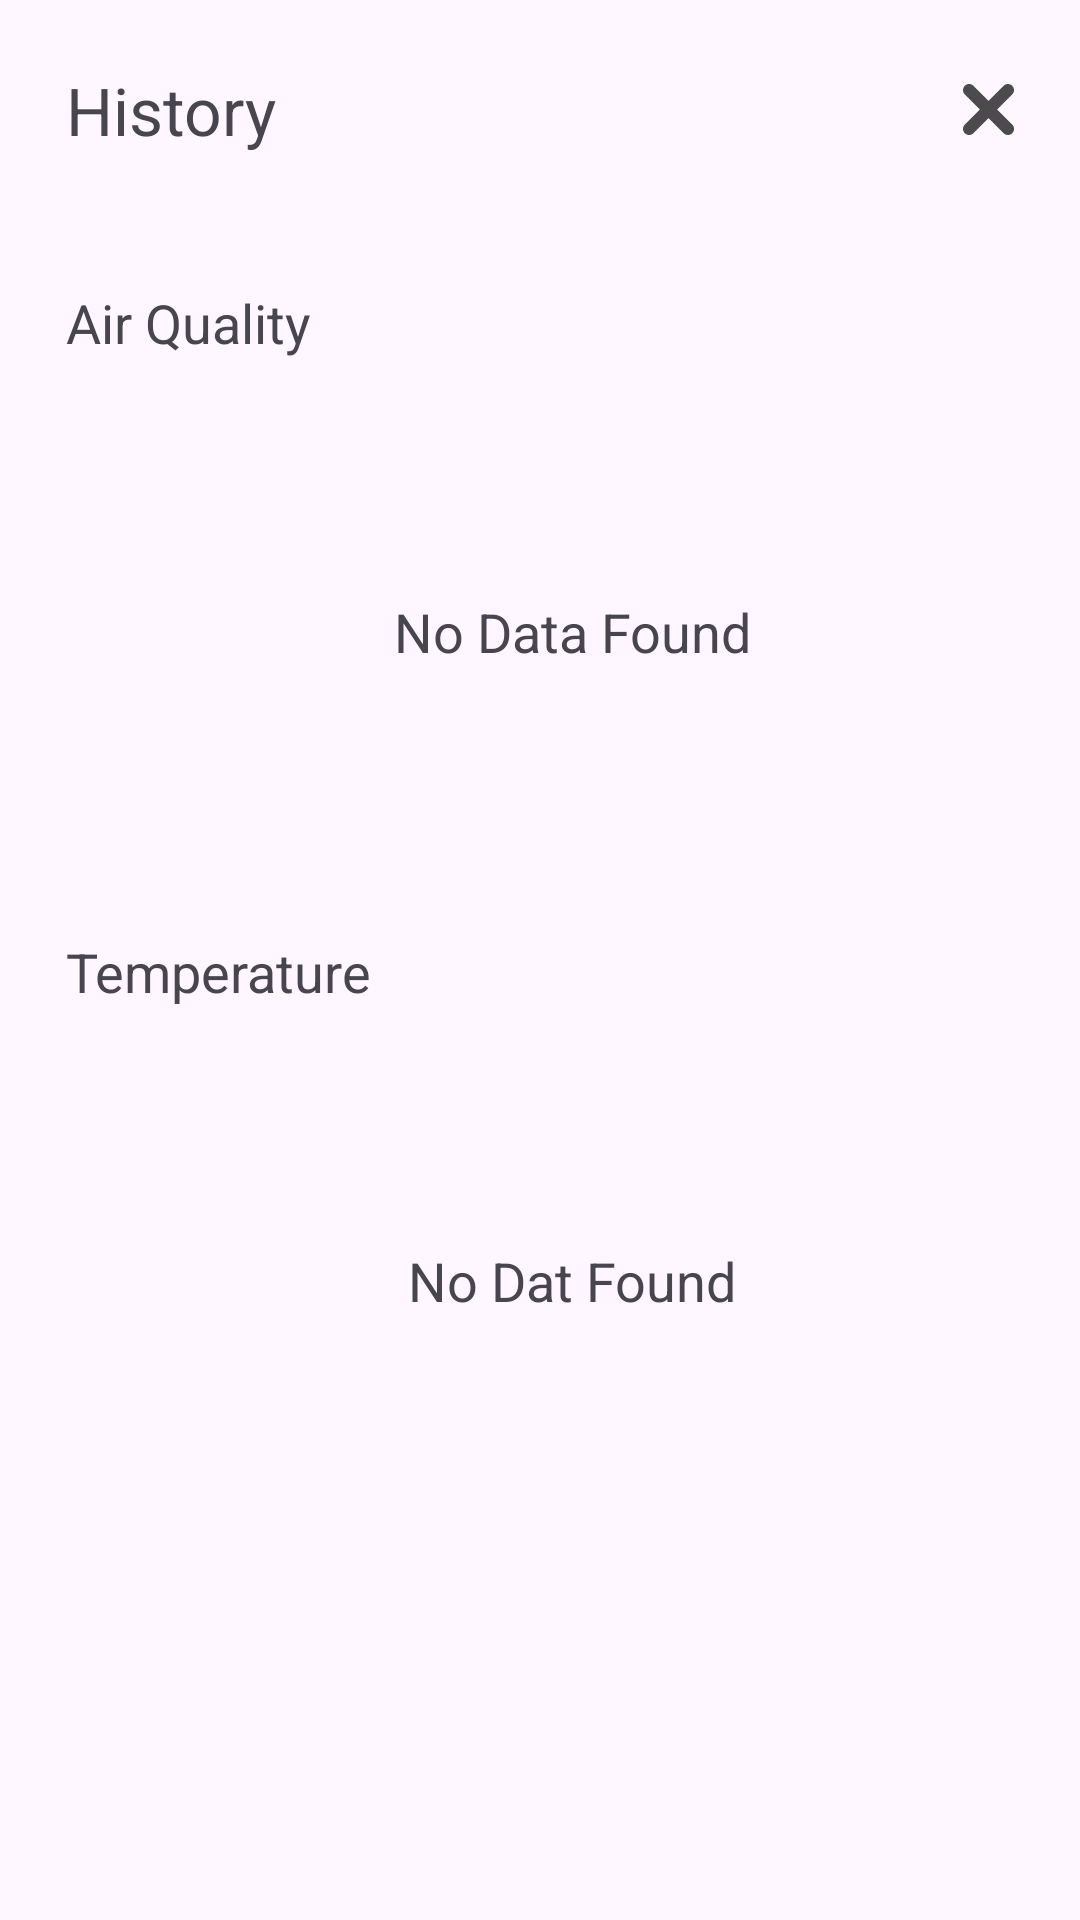

Locate icon controls on the screen. Image size 1080 × 1920, boxes as (x1, y1, x2, y2).
close cross: (963, 84, 1014, 135)
